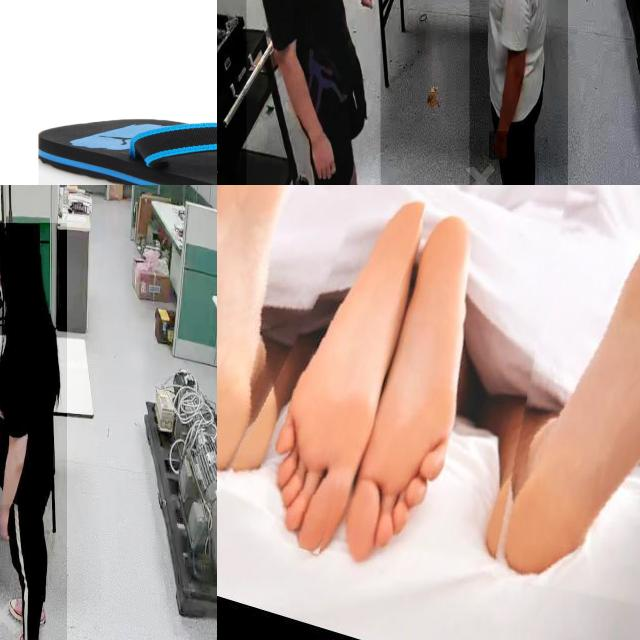Barefoots: (317, 198, 523, 587), (458, 185, 640, 621), (242, 185, 446, 558), (217, 185, 401, 502)
Sandals: (32, 110, 217, 185)
hand_noglove: (309, 136, 337, 182), (489, 131, 507, 160), (0, 504, 11, 542), (358, 0, 375, 10)
head_nohelmet: (0, 223, 40, 265)
person: (0, 223, 67, 640), (246, 0, 381, 185), (469, 0, 568, 185)
shoes: (6, 594, 49, 629)
